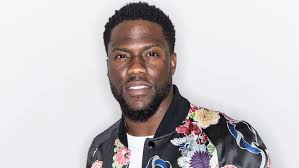black_male: (102, 1, 183, 121)
